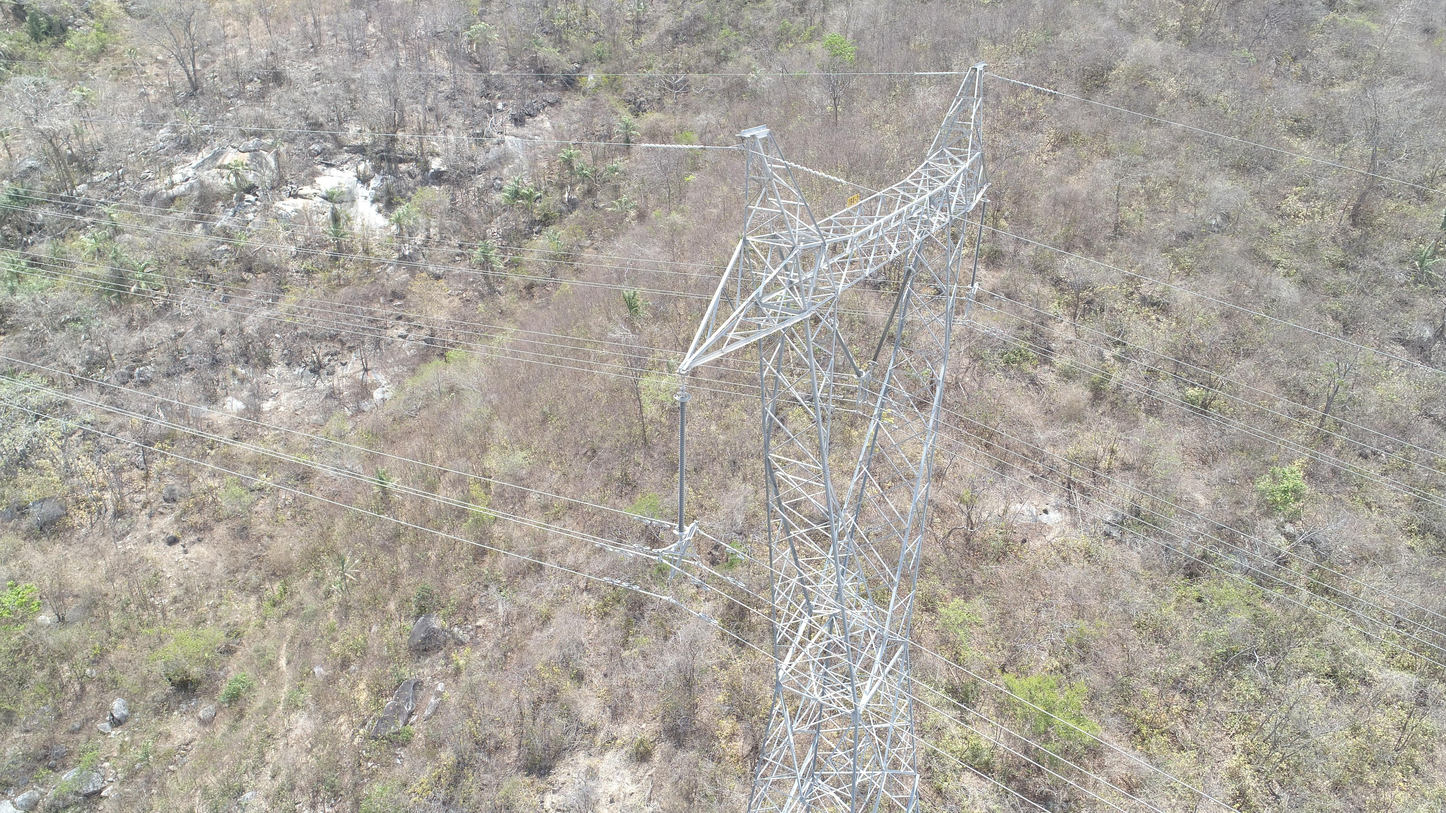power_tower: (660, 61, 994, 813)
